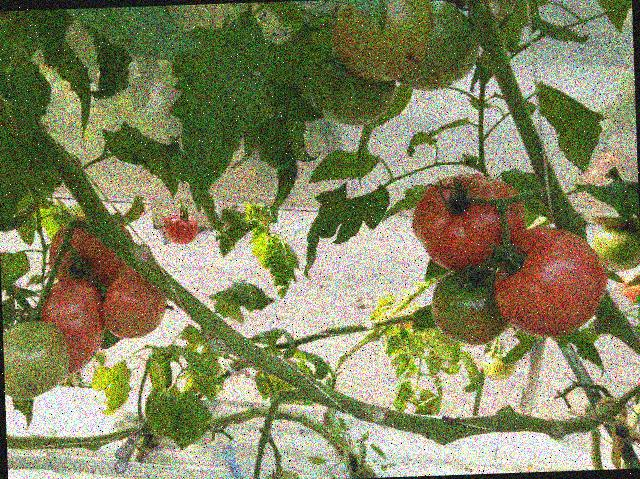b_fully_ripened: (490, 224, 609, 340), (410, 172, 528, 273), (34, 278, 108, 380), (162, 211, 199, 245)
b_green: (331, 0, 436, 85), (393, 0, 481, 92), (310, 49, 398, 127), (430, 267, 511, 347), (3, 321, 72, 401), (592, 225, 640, 273), (454, 0, 523, 23), (481, 349, 517, 382), (261, 469, 303, 479)
b_half_ripened: (47, 212, 136, 291), (101, 263, 169, 340), (620, 268, 640, 304)
